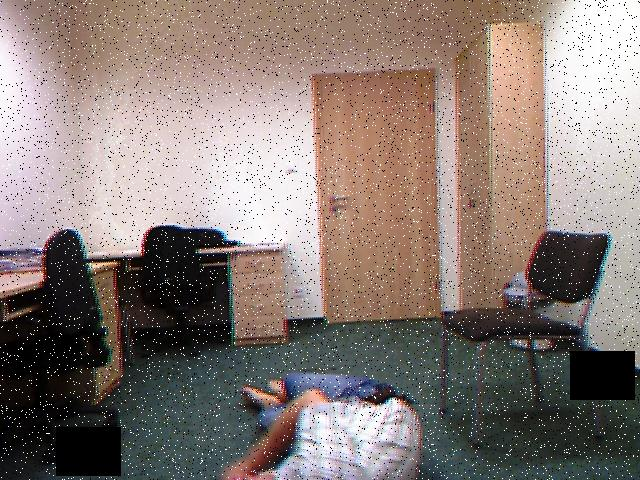fall: (223, 372, 422, 479)
